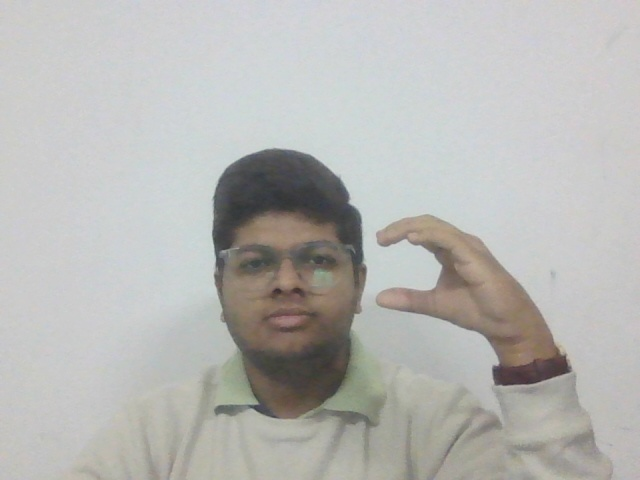C: (372, 210, 541, 344)
